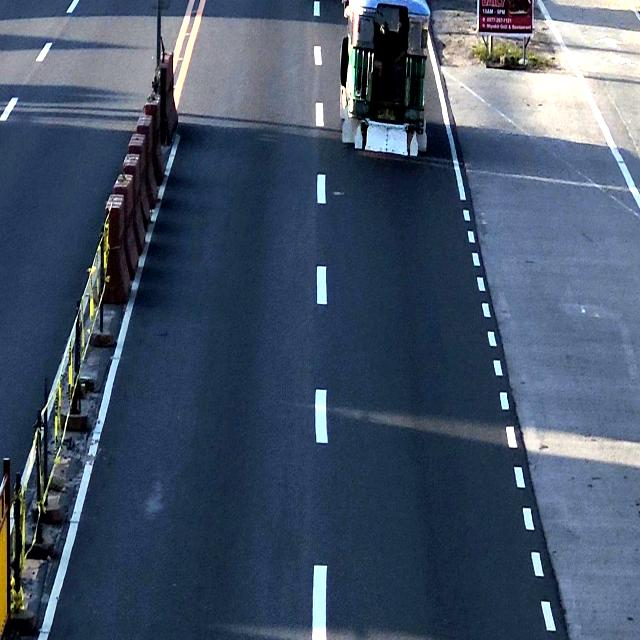Jeep: (343, 0, 428, 146)
